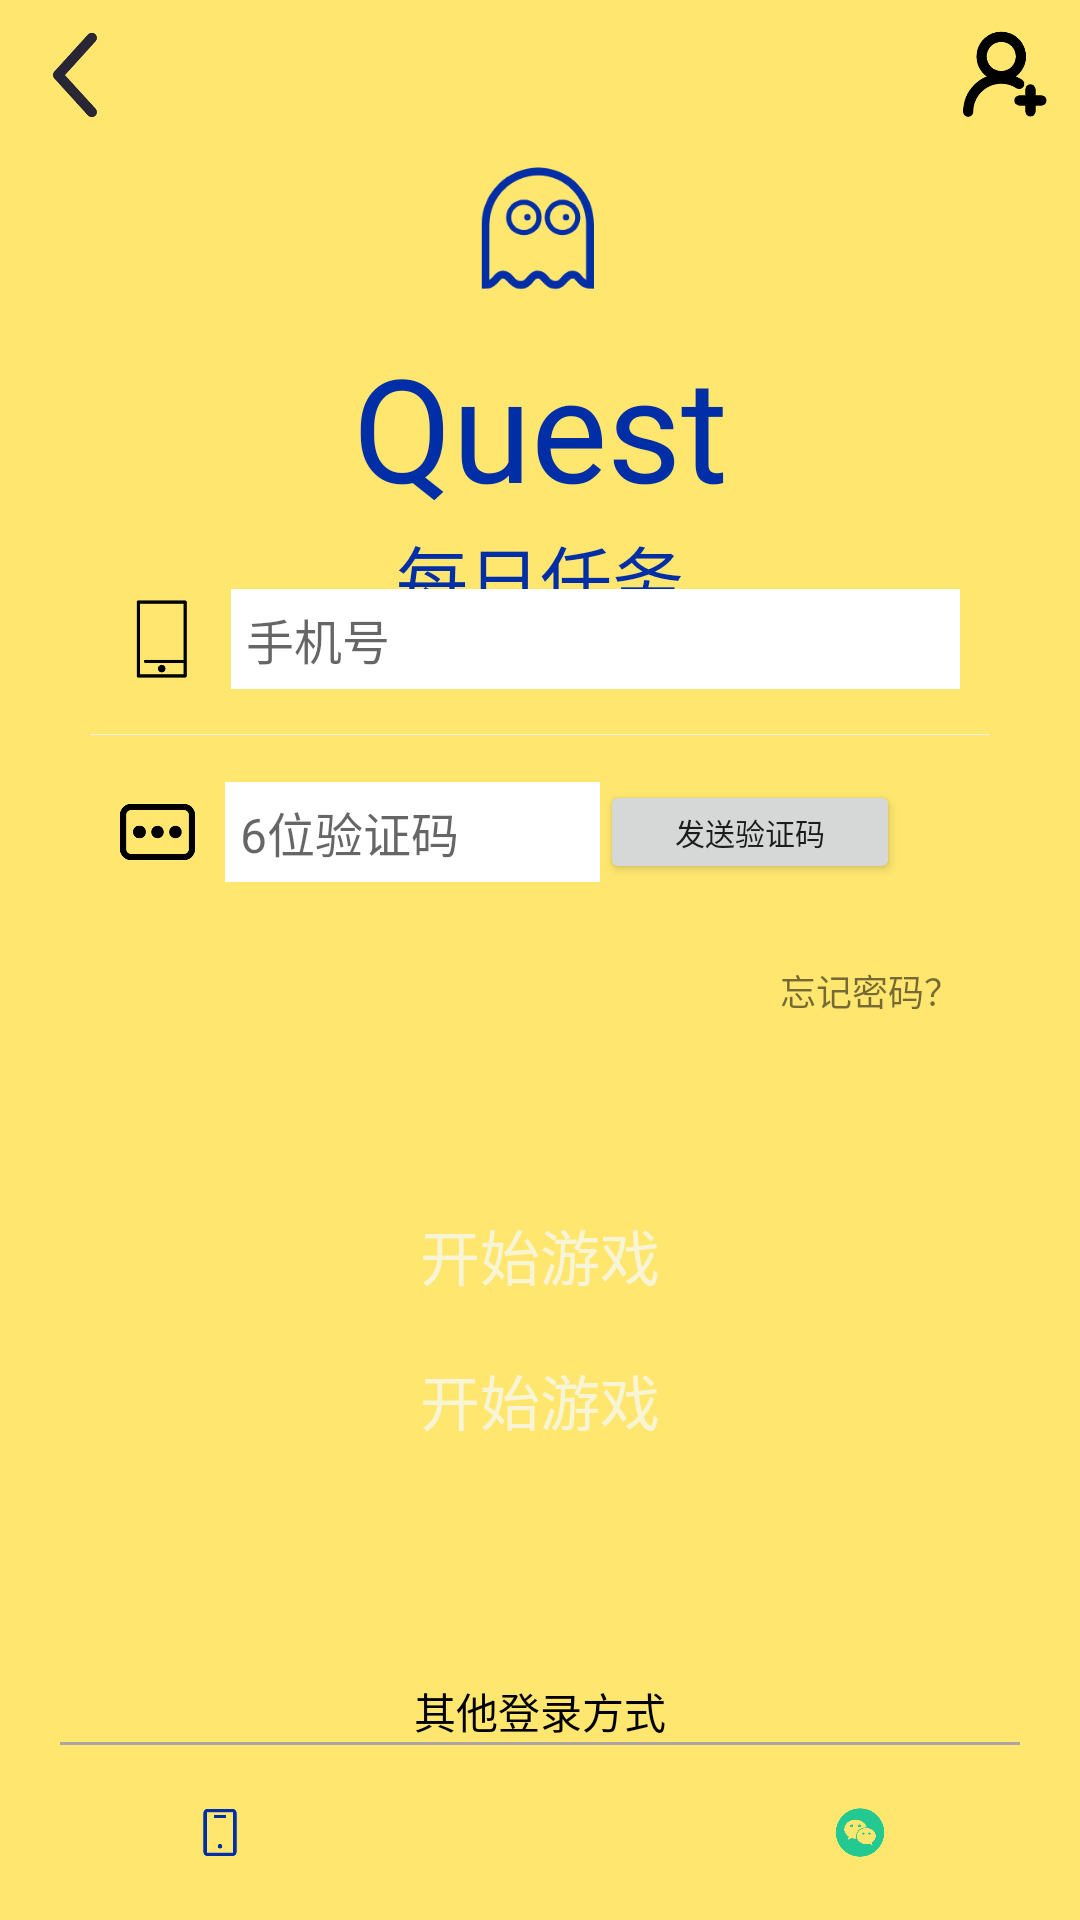

Screen size 1080 × 1920. Icon name, then its center in pixels as [x,y]:
back: [75,75]
login phone: [220,1832]
register: [1005,74]
